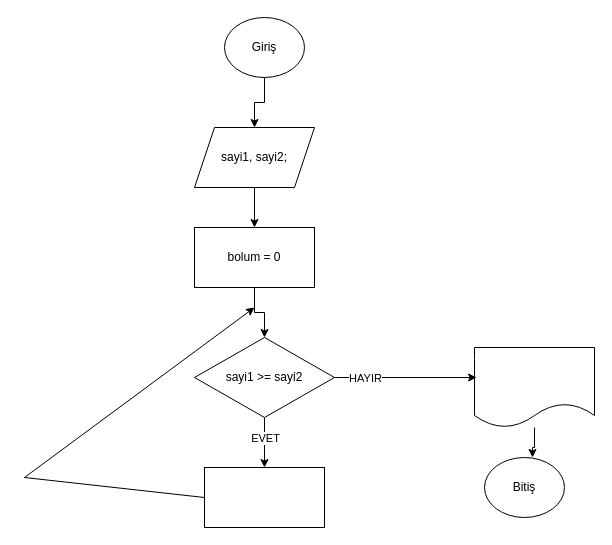
Image size: 612x545. Some labels were removed from this diagram. Each missing label, with the box of its shape:
bolum = bolum kalan = sayi1: (474, 346, 594, 428)
sayi1 -= sayi2; bolum++;: (204, 466, 324, 528)
